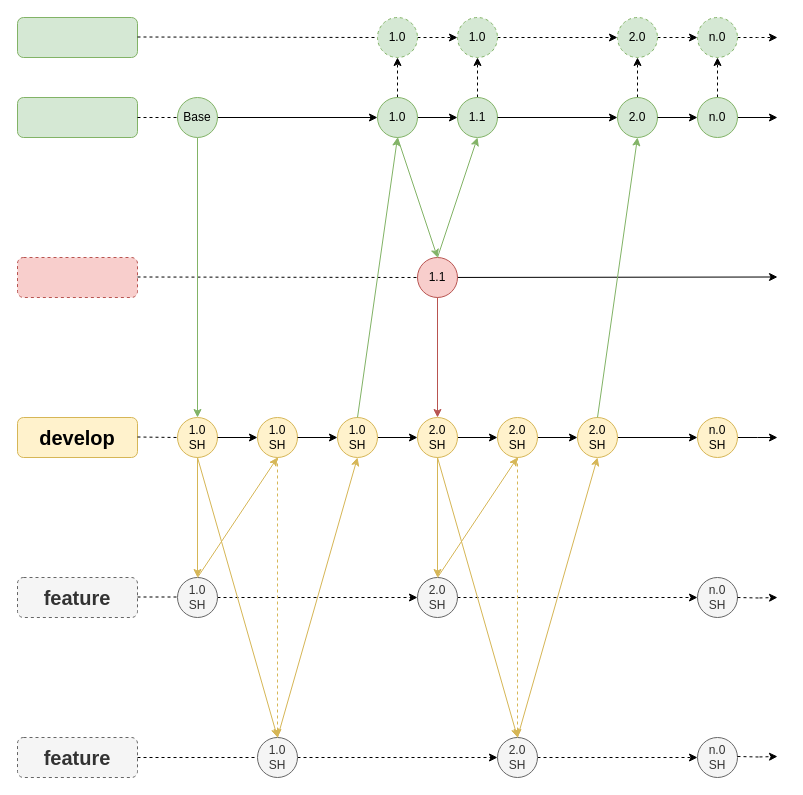
This 803x795 diagram has some shape labels left out. Each missing label, with the box of its shape:
hotfix: (16, 256, 138, 298)
master: (16, 96, 138, 138)
tag: (16, 16, 138, 58)
